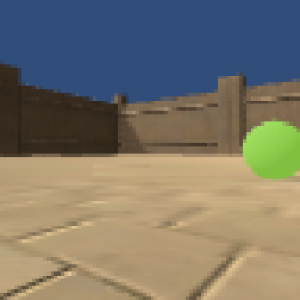goodGoal: (239, 113, 300, 186)
